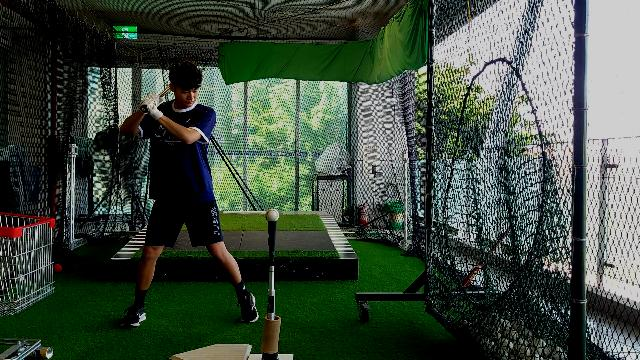baseball bat: (158, 84, 172, 96)
